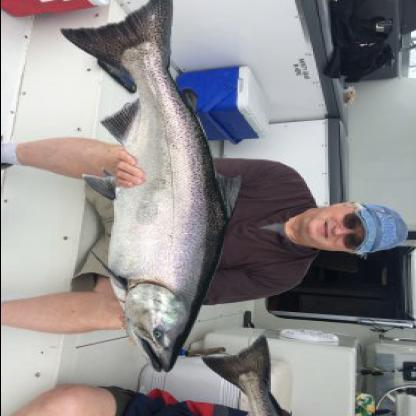fish: (60, 0, 244, 371)
